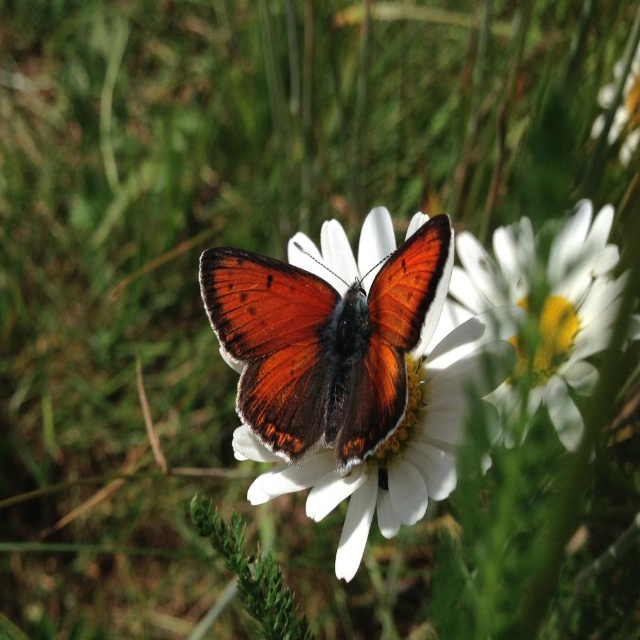Butterfly: (198, 214, 453, 479)
